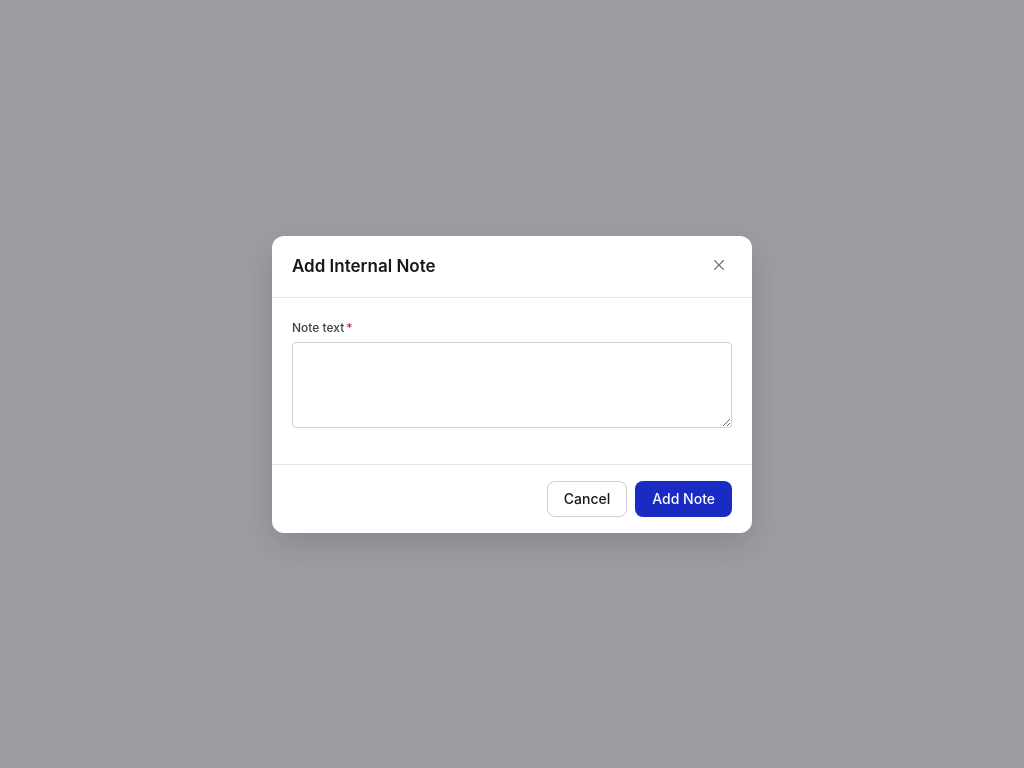
it: AddInternalNoteModal — Frontend Phase 7 › shows a validation error and never submits when content is empty
Click the button "Add Note".
click(684, 498)  # box top-left (635, 480), bottom-right (732, 516)
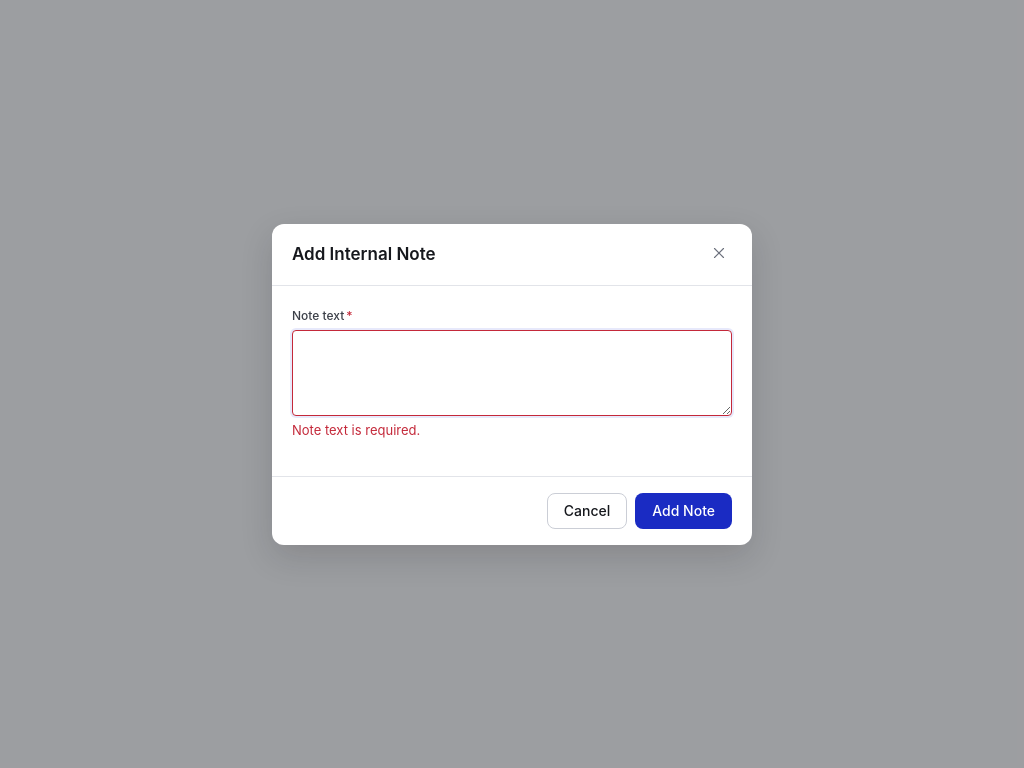
Result: the text "Note text is required." is shown at top-left (292, 422), bottom-right (420, 438)
